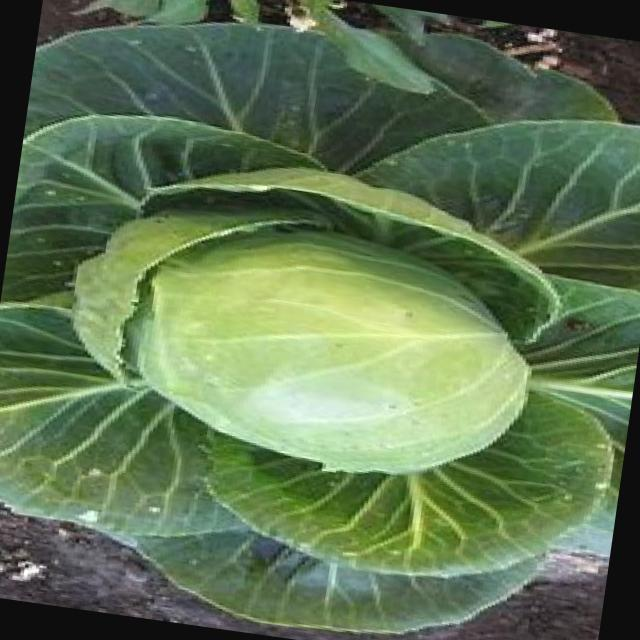cabbage: (117, 212, 548, 492)
